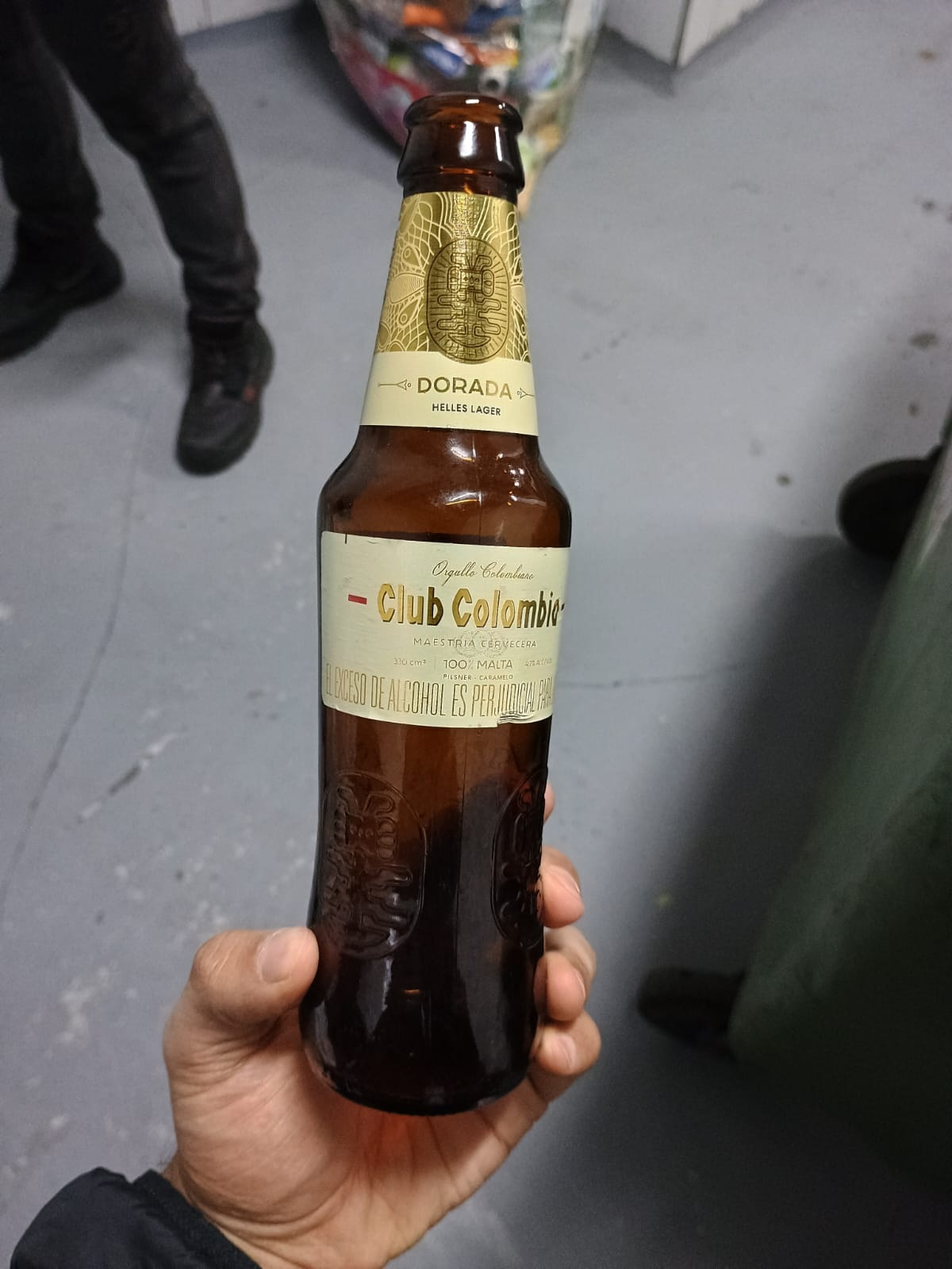Vidrio: (301, 88, 572, 1111)
